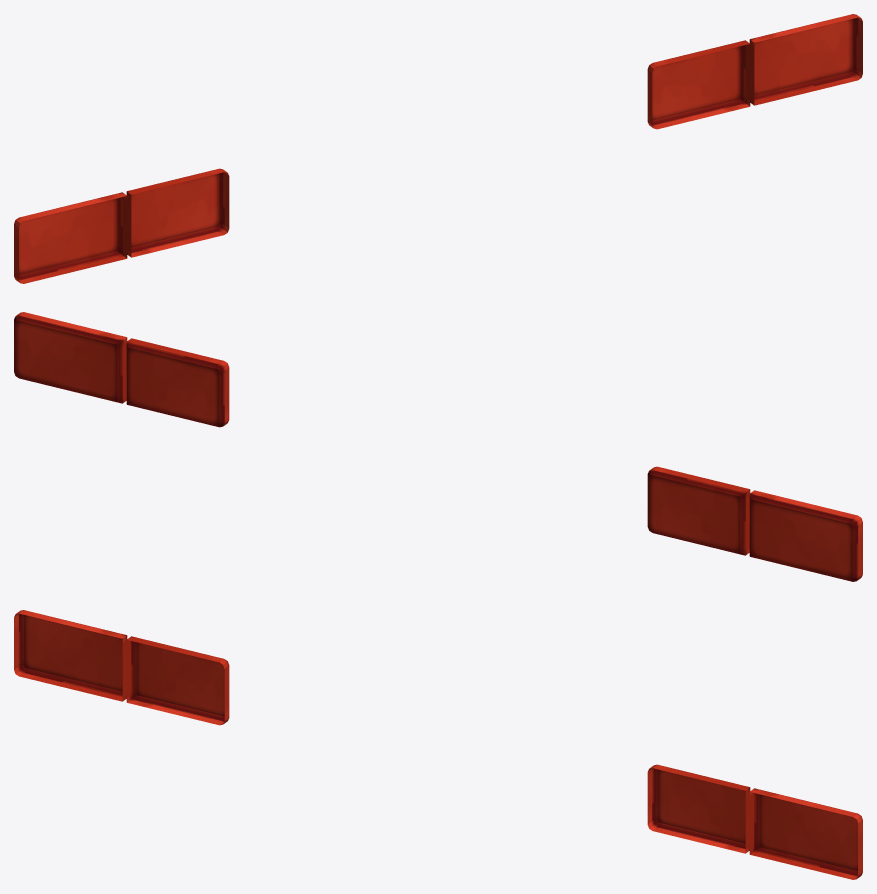
The model's file is headlights.fbx.
3 views of the same model, one above another, from view 1: azimuth 30°, elevation 25°; view 2: azimuth 150°, elevation 25°; view 3: azimuth 330°, elevation 25° (orthographic).
Parts seen in each view (by area): view 1: Plane.063; view 2: Plane.063; view 3: Plane.063.
Part boxes in pixels (x1,y1,x2,y2): Plane.063: [14, 14, 862, 283]; Plane.063: [14, 312, 862, 581]; Plane.063: [14, 610, 862, 879].
Size of the model in its own units: 162 by 11.57 by 2.25.
